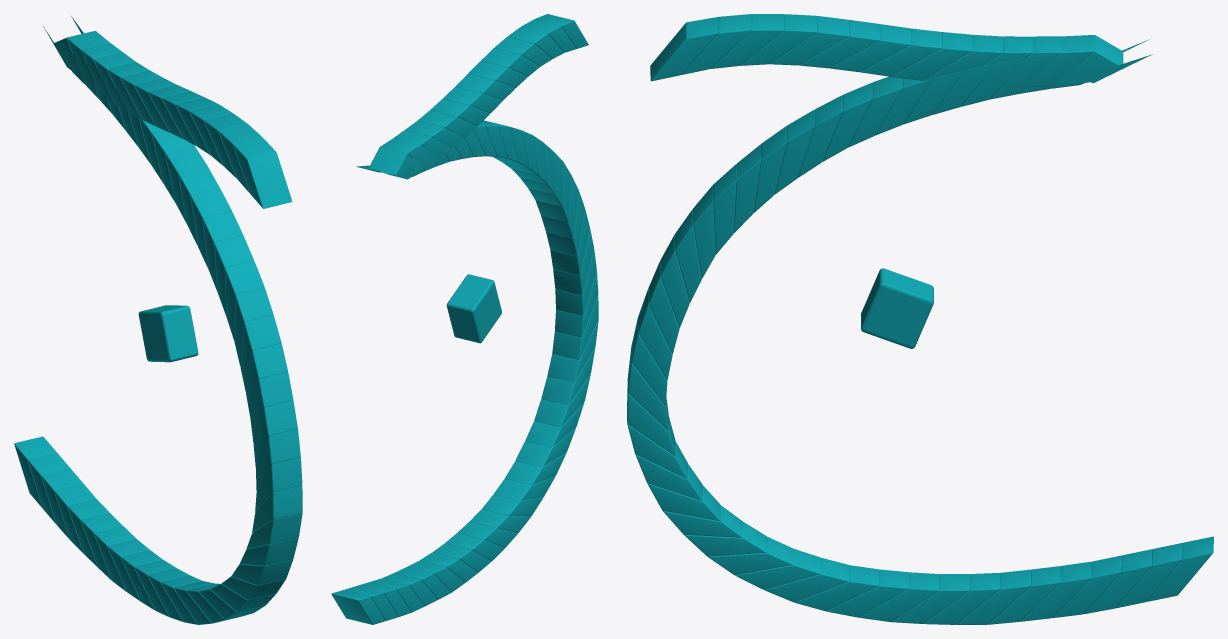
File: jim.fbx
3 views of the same model, side by side, from view 1: azimuth 30°, elevation 25°; view 2: azimuth 150°, elevation 25°; view 3: azimuth 270°, elevation 25° (orthographic). The views are drawn at different scales.
Parts seen in each view (by area): view 1: Cube, Cube.001; view 2: Cube, Cube.001; view 3: Cube, Cube.001.
Boxes of the visible parts, left/top/right/bottom form: Cube: left=14, top=16, right=302, bottom=624; Cube.001: left=138, top=305, right=198, bottom=362; Cube: left=331, top=14, right=598, bottom=624; Cube.001: left=446, top=274, right=501, bottom=343; Cube: left=627, top=14, right=1213, bottom=624; Cube.001: left=861, top=268, right=933, bottom=348.
Bounding box in the file's own units: 52.78 × 847 × 756.
